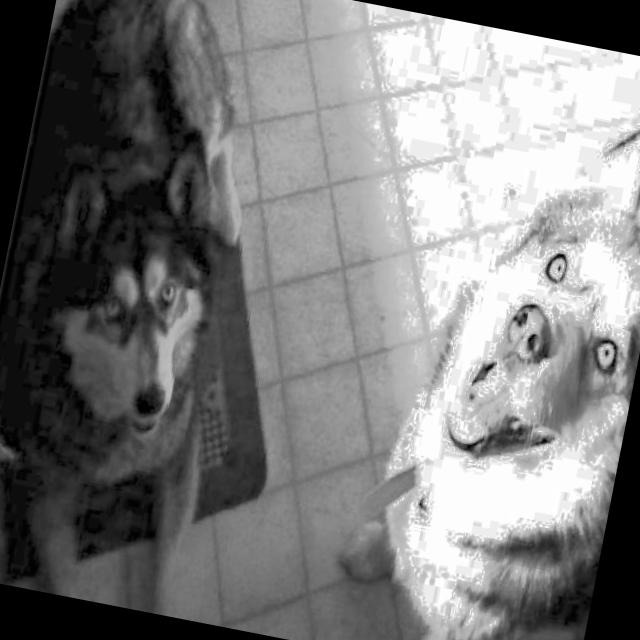Dog: (0, 0, 299, 618), (315, 77, 640, 640)
